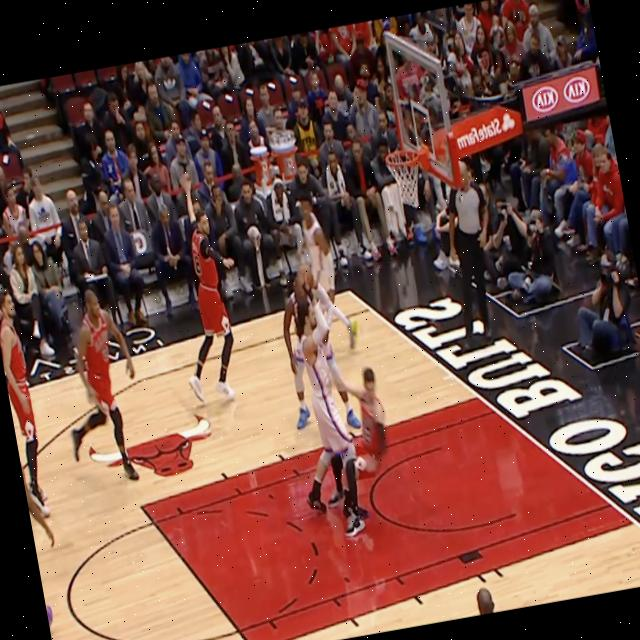foul: (260, 267, 415, 558)
